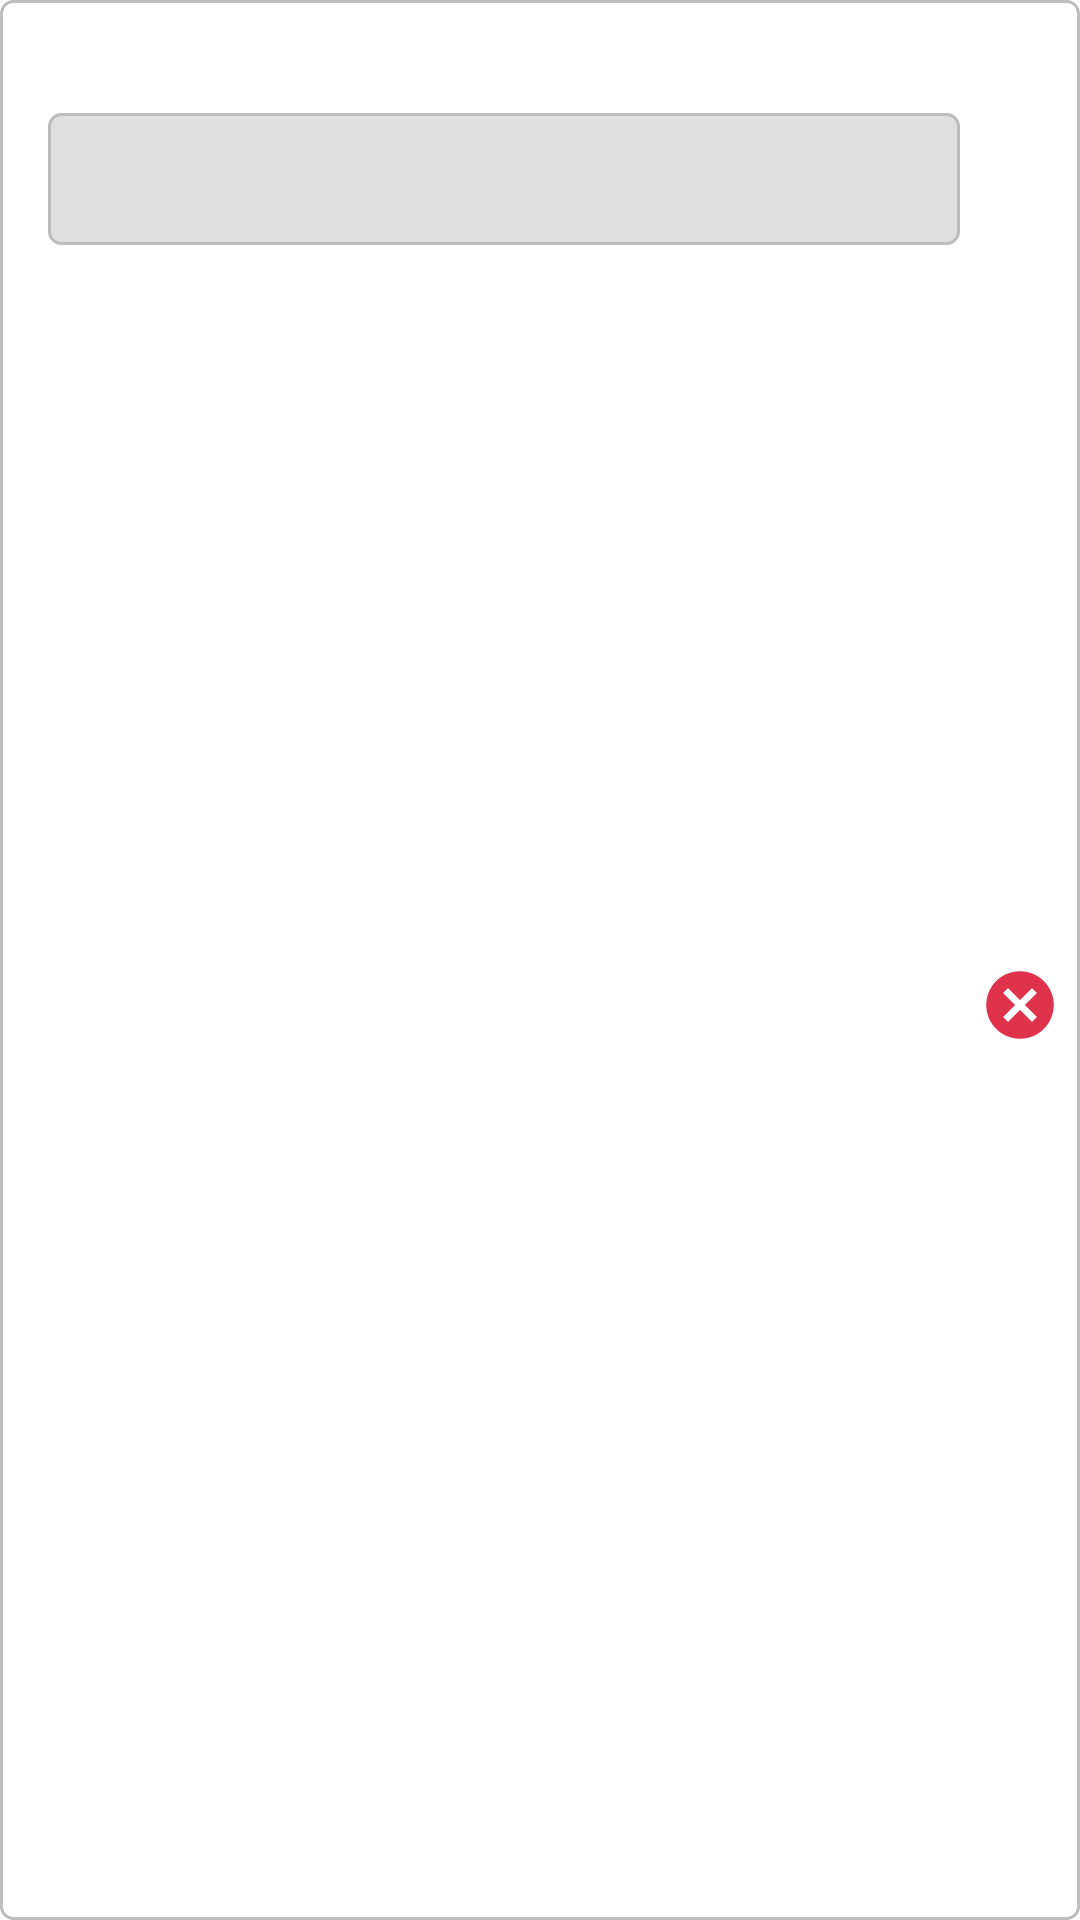

Where icons sit on this 1080w x 1920h app screen, as BBox(x1, y1, x2, y2):
circle close: BBox(986, 971, 1054, 1039)
